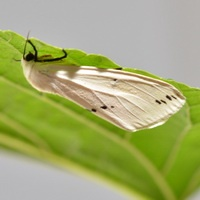insect: (21, 37, 185, 131)
